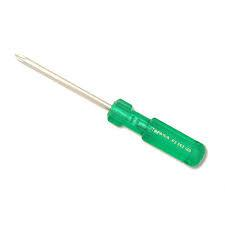screwdriver: (14, 53, 206, 167)
